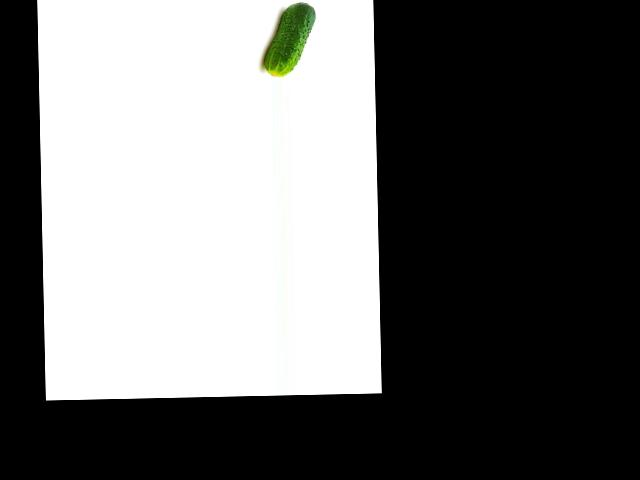cucumber: (262, 2, 316, 77)
